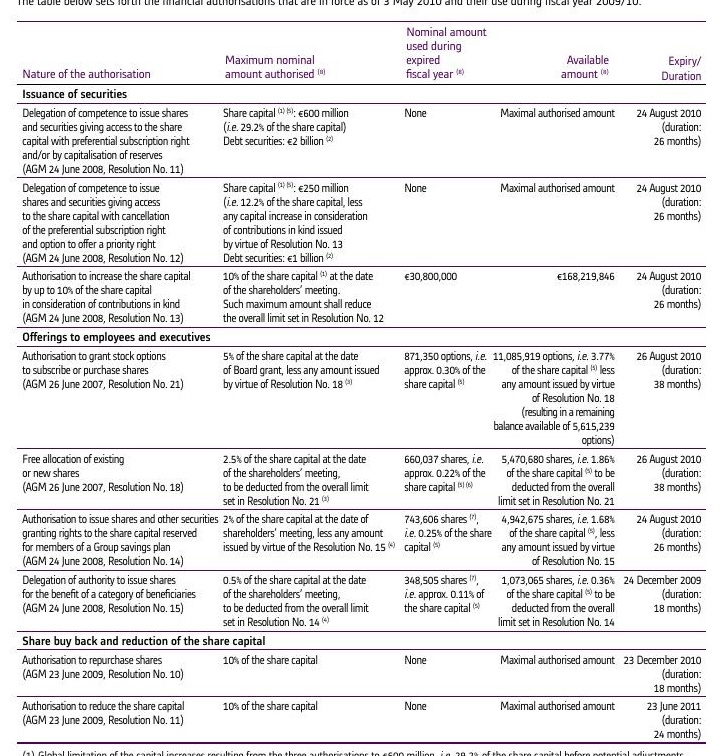table: (0, 0, 723, 756)
